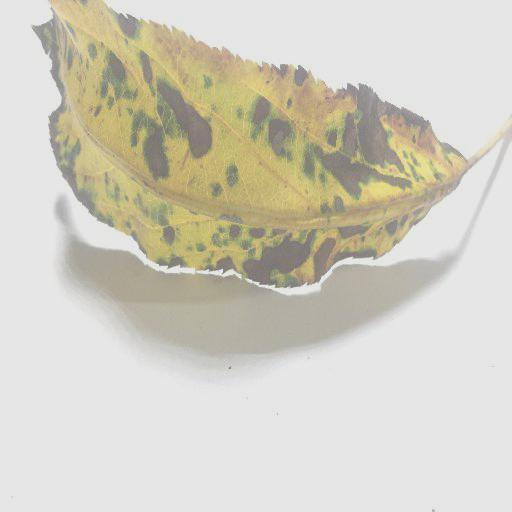Brown_Spot: (247, 55, 450, 193), (75, 9, 221, 186), (208, 220, 423, 283), (156, 224, 187, 268)
